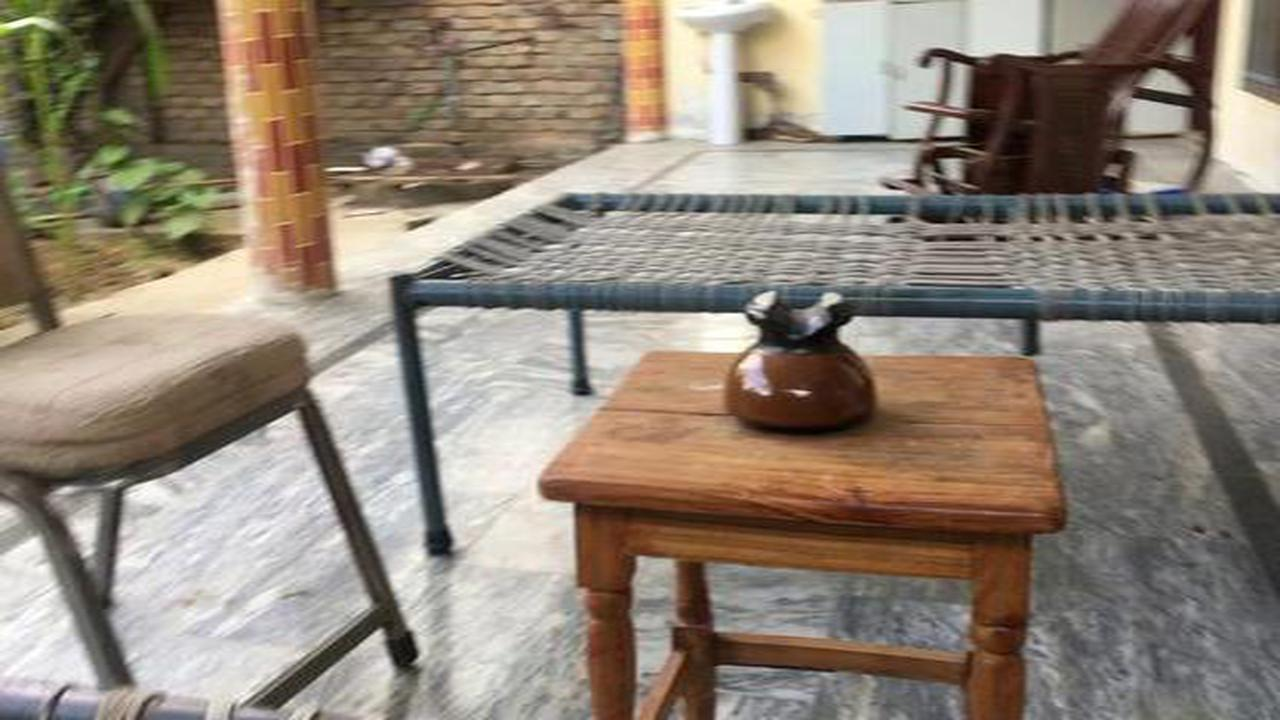insulator_pin: (705, 269, 899, 444)
